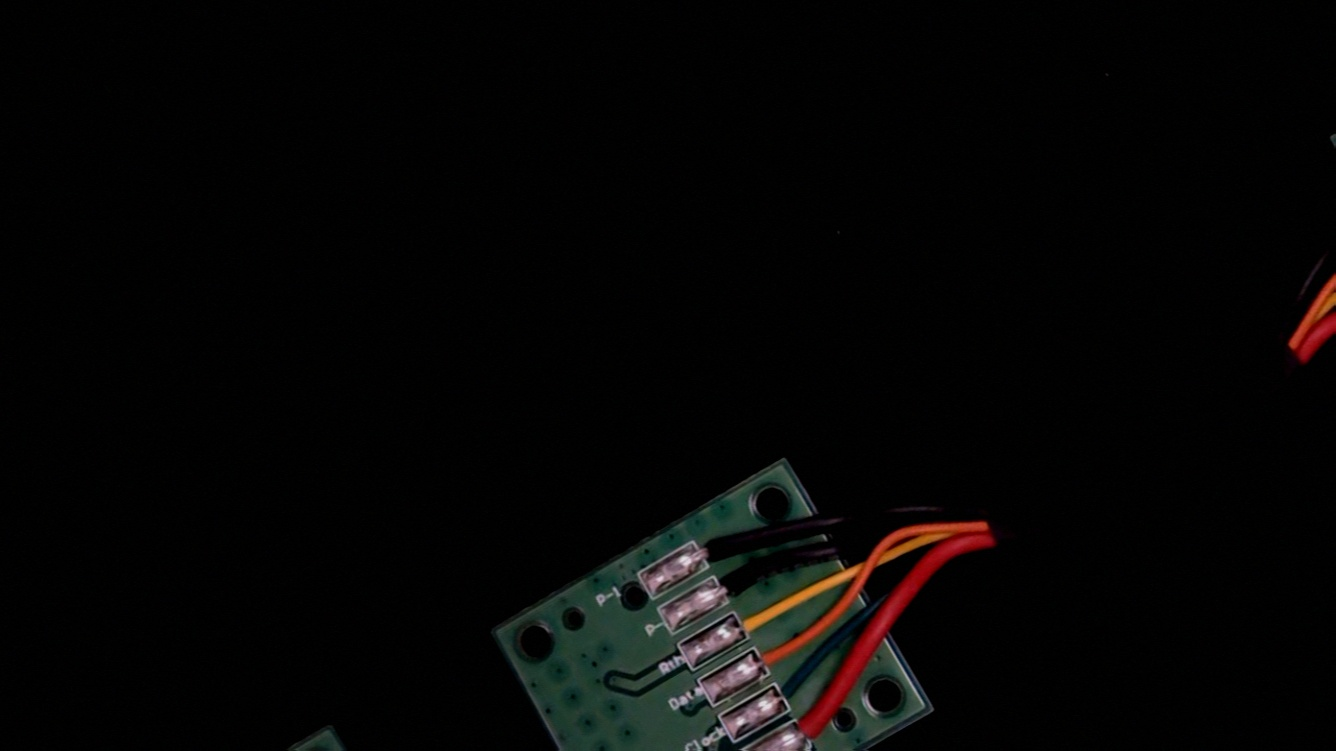Black: (700, 551, 777, 614)
Black1: (679, 510, 756, 576)
Green: (758, 659, 831, 722)
Orange: (739, 625, 811, 686)
Red: (779, 692, 860, 751)
Yellow: (720, 589, 793, 647)
